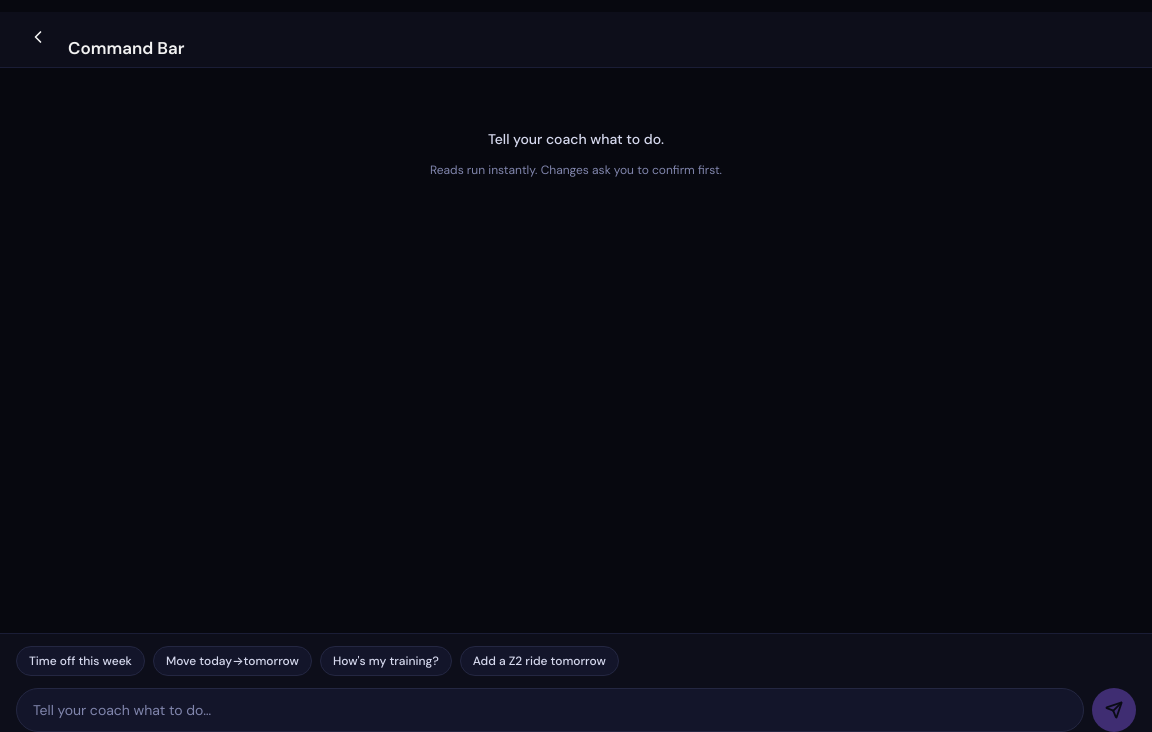
Test: CoachingChat (command bar) › submitting a read command renders a result card
Click the button "How's my training?".
click(386, 661)  # box [320,646,452,676]
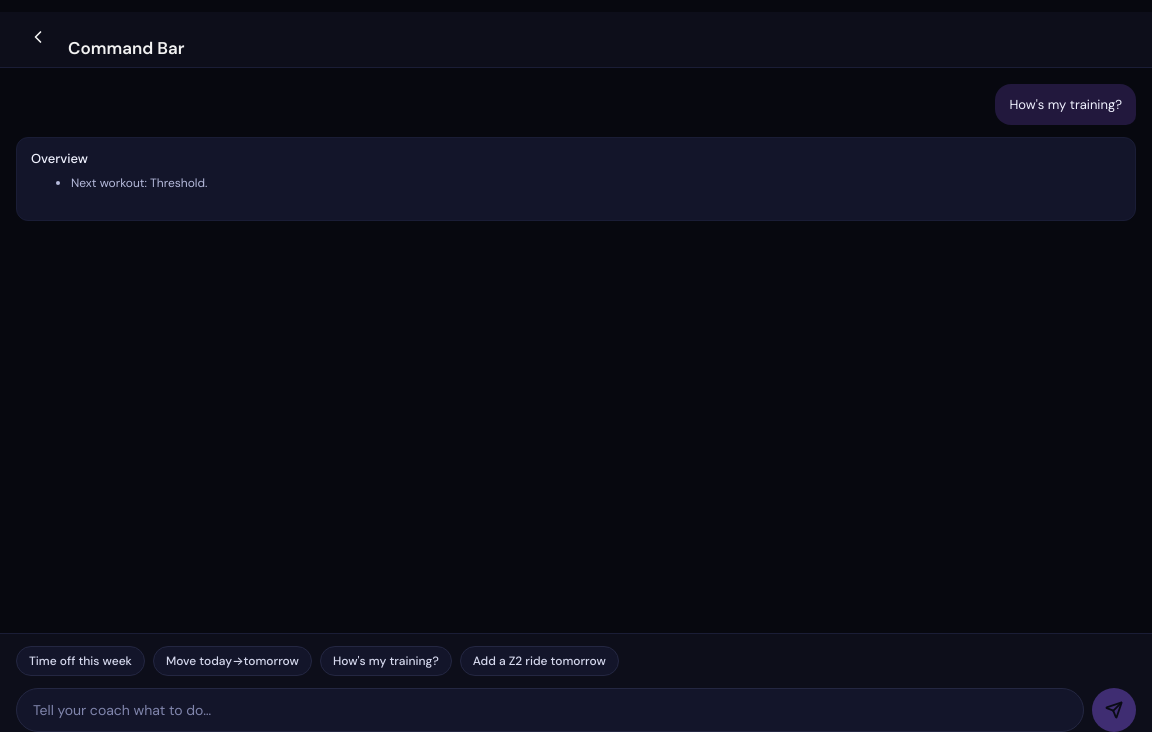
Expected: the element with test id "entry-result" is shown, [16,137,1136,221]
Expected: the list item "Next workout: Threshold." is shown, [71,175,207,191]
